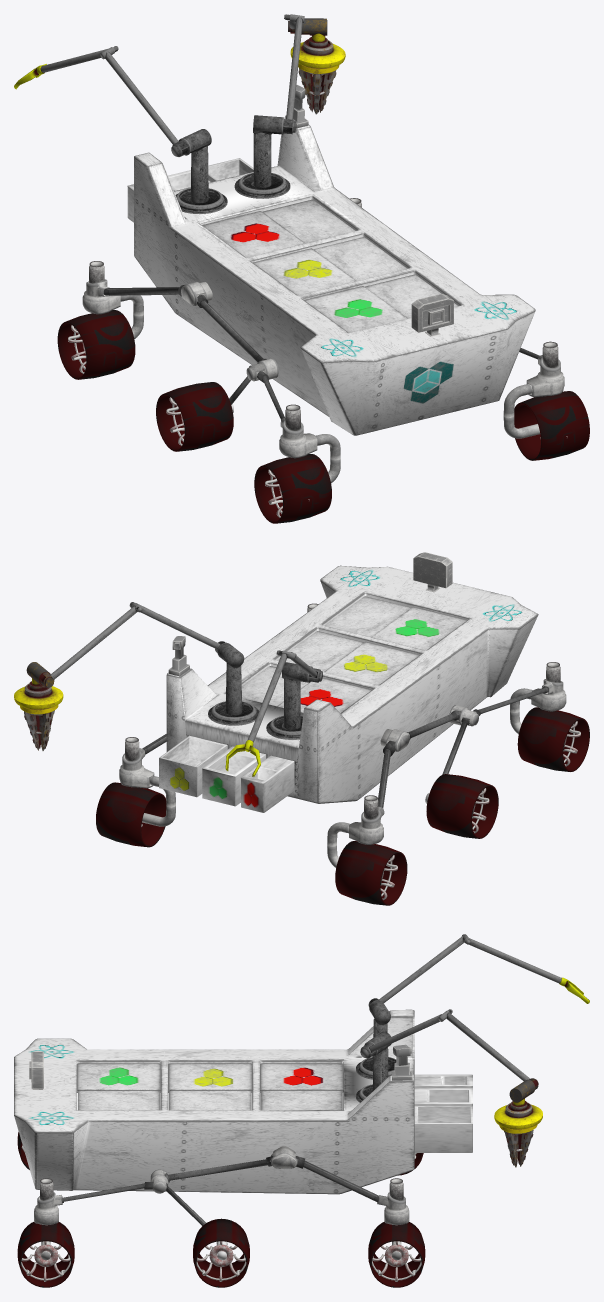
Rendered from rover7.fbx.
The picture shows the model from 3 angles, top to bottom: view 1: azimuth 30°, elevation 25°; view 2: azimuth 150°, elevation 25°; view 3: azimuth 270°, elevation 25°; orthographic projection. The views are drawn at different scales.
Visible parts, largest first — view 1: Cube, Circle.046, Circle.027, Circle.029, Circle.042, Cube.004, Cube.006, Cube.002, Cube.005, Cube.003, Cube.007, Cube.001 (+16 smaller); view 2: Cube, Circle.046, Circle.027, Circle.029, Circle.044, Cube.011, Cube.010, Cube.004, Cube.006, Cube.012, Cube.007, Cube.005 (+20 smaller); view 3: Cube, Circle.044, Circle.042, Cube.011, Circle.037, Cube.004, Cube.006, Cube.002, Cube.003, Cube.005, Cube.007, Cylinder (+15 smaller).
Boxes of the visible parts, x1=… form: Cube: x1=134, y1=124, x2=535, y2=435; Circle.046: x1=156, y1=382, x2=233, y2=451; Circle.027: x1=57, y1=310, x2=135, y2=379; Circle.029: x1=254, y1=454, x2=331, y2=523; Circle.042: x1=514, y1=391, x2=589, y2=460; Cube.004: x1=253, y1=248, x2=356, y2=295; Cube.006: x1=304, y1=286, x2=407, y2=332; Cube.002: x1=202, y1=211, x2=304, y2=257; Cube.005: x1=313, y1=237, x2=407, y2=280; Cube.003: x1=262, y1=199, x2=355, y2=243; Cube.007: x1=364, y1=274, x2=458, y2=318; Cube.001: x1=411, y1=293, x2=453, y2=336; Cube: x1=166, y1=565, x2=538, y2=803; Circle.046: x1=426, y1=774, x2=498, y2=838; Circle.027: x1=335, y1=841, x2=407, y2=905; Circle.029: x1=517, y1=707, x2=589, y2=771; Circle.044: x1=96, y1=782, x2=166, y2=847; Cube.011: x1=159, y1=735, x2=227, y2=797; Cube.010: x1=240, y1=755, x2=294, y2=812; Cube.004: x1=324, y1=641, x2=419, y2=685; Cube.006: x1=372, y1=606, x2=467, y2=650; Cube.012: x1=202, y1=746, x2=265, y2=806; Cube.007: x1=325, y1=596, x2=411, y2=636; Cube.005: x1=277, y1=631, x2=363, y2=671; Cube: x1=14, y1=1009, x2=414, y2=1194; Circle.044: x1=368, y1=1222, x2=425, y2=1287; Circle.042: x1=17, y1=1222, x2=74, y2=1287; Cube.011: x1=414, y1=1106, x2=472, y2=1152; Circle.037: x1=193, y1=1218, x2=249, y2=1287; Cube.004: x1=168, y1=1063, x2=252, y2=1092; Cube.006: x1=76, y1=1063, x2=160, y2=1092; Cube.002: x1=260, y1=1063, x2=343, y2=1092; Cube.003: x1=260, y1=1090, x2=342, y2=1110; Cube.005: x1=169, y1=1090, x2=251, y2=1110; Cube.007: x1=78, y1=1090, x2=159, y2=1110; Cylinder: x1=494, y1=1098, x2=542, y2=1129.
Size of the model in its own units: 1583 by 1274 by 2628.
